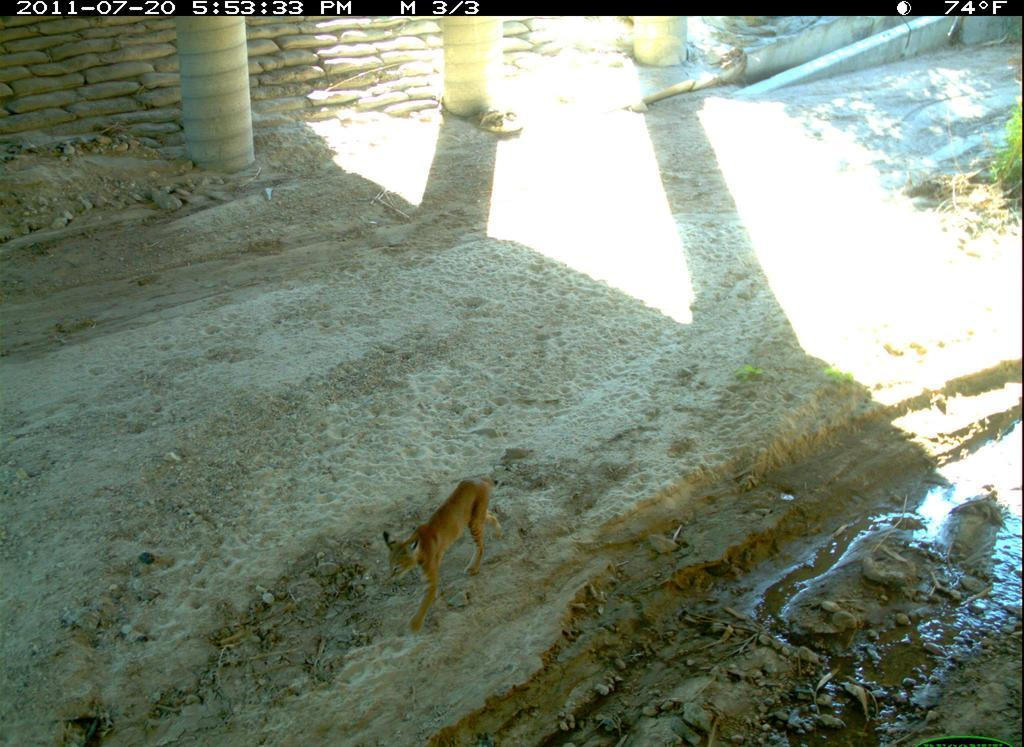bobcat: (374, 472, 513, 642)
